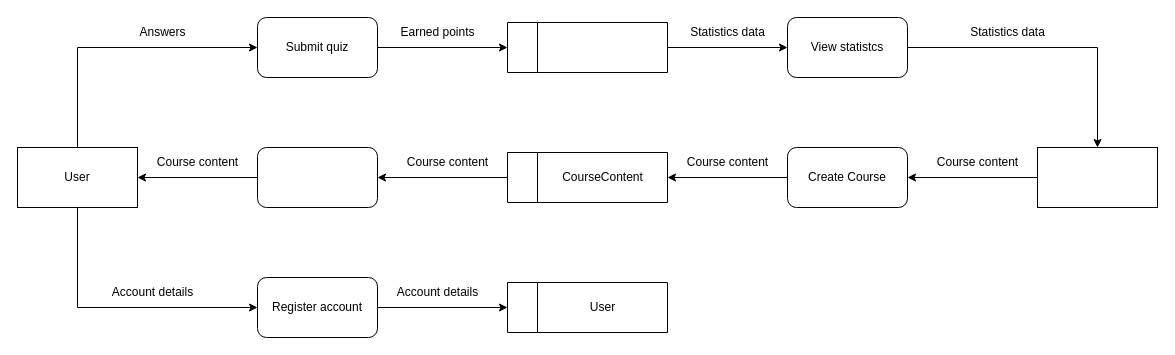
This 1175x355 diagram has some shape labels left out. The centre of each missing label's shape, as x and y in pixels:
"Administrator" goes at point (1097, 177).
"Open course" goes at point (317, 177).
"Statistics" goes at point (587, 47).
